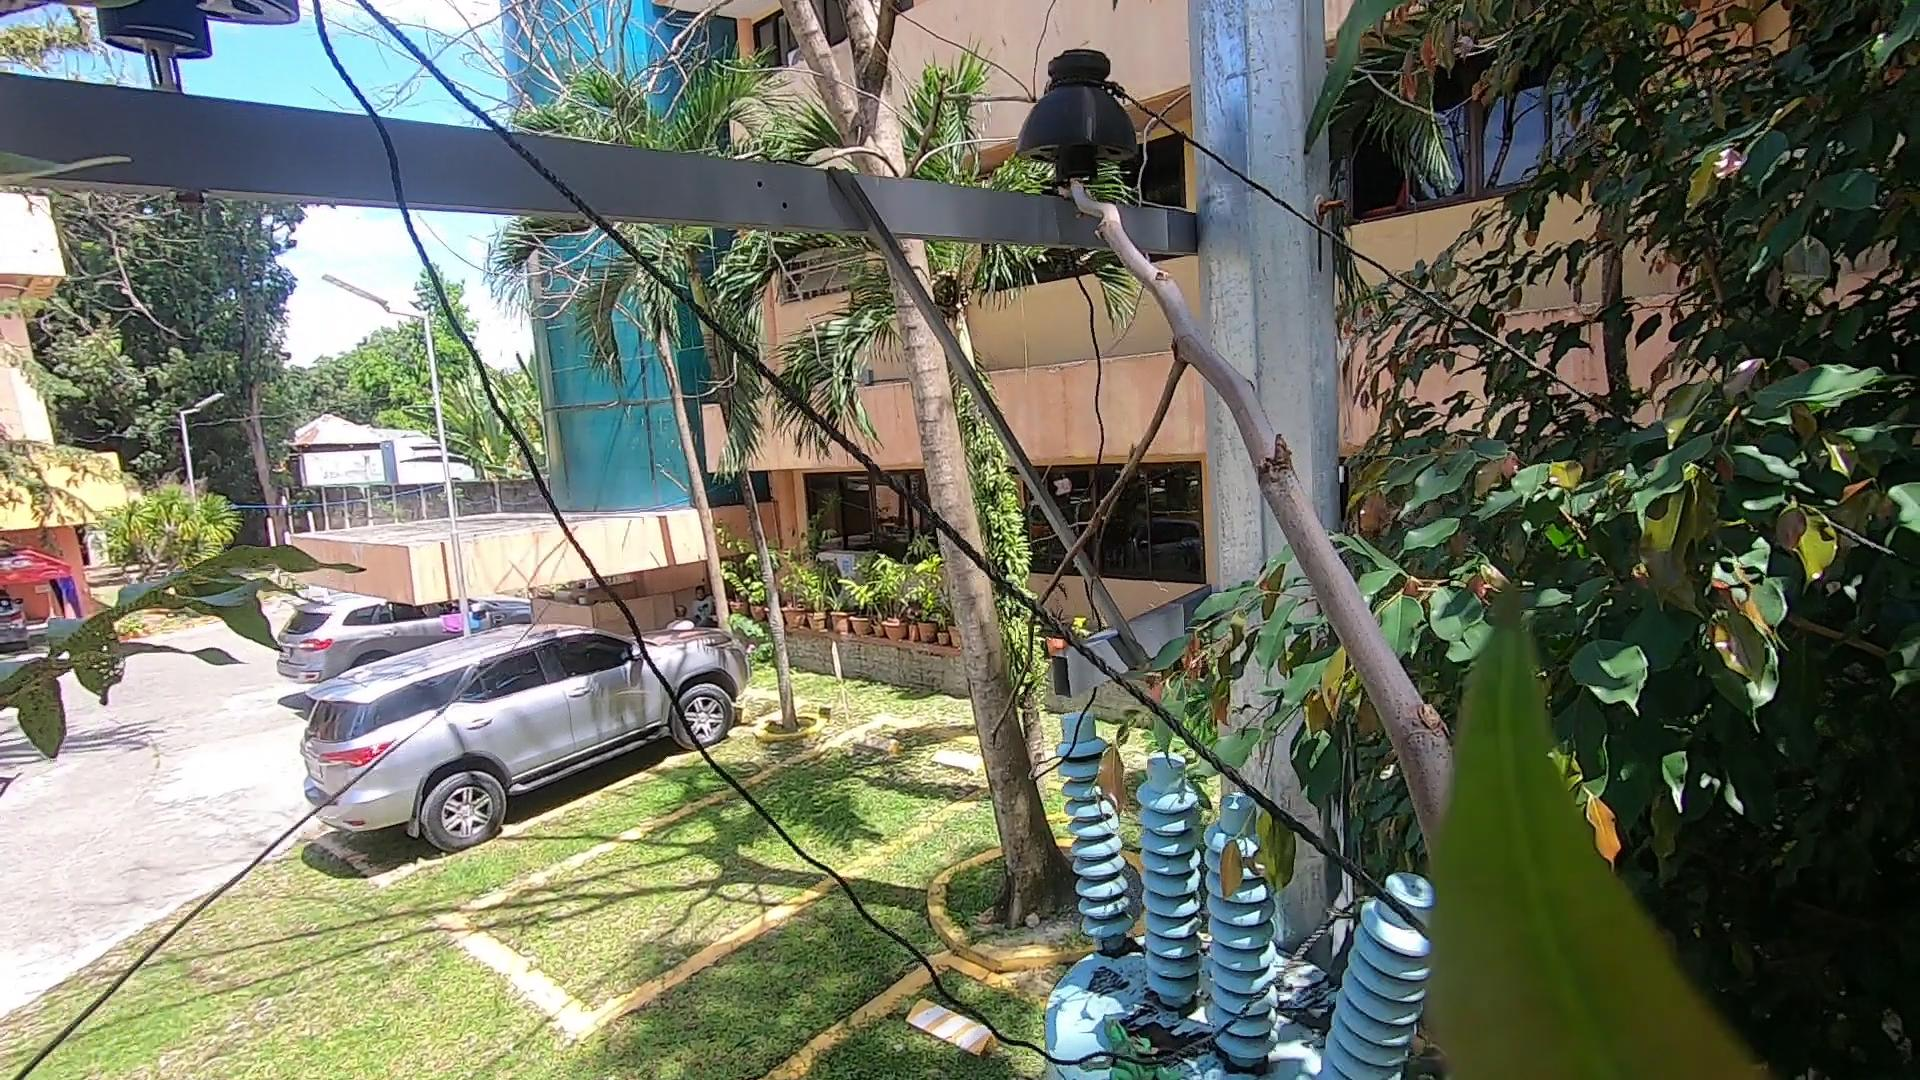branch with leaves: (1083, 545, 1379, 916)
leaf: (1118, 1001, 1215, 1055), (1270, 993, 1346, 1043), (1095, 942, 1147, 967)
tree branch: (1029, 142, 1501, 874)
